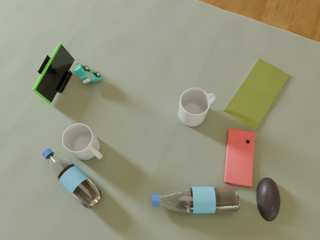book: (223, 59, 289, 132)
bottle: (42, 149, 102, 209), (152, 187, 240, 213)
cup: (62, 124, 103, 160), (178, 88, 216, 126)
mouse: (257, 178, 280, 221)
phone: (32, 43, 74, 103), (224, 129, 255, 187)
toy_car: (74, 64, 102, 83)
